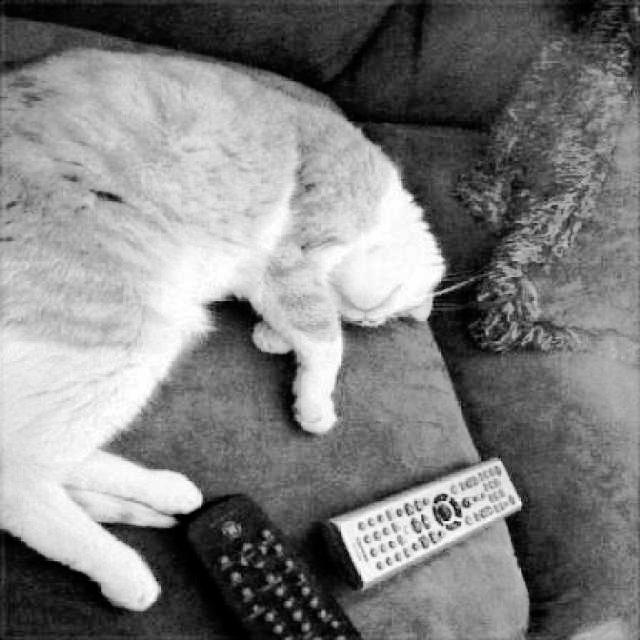Cat: (0, 41, 450, 606)
